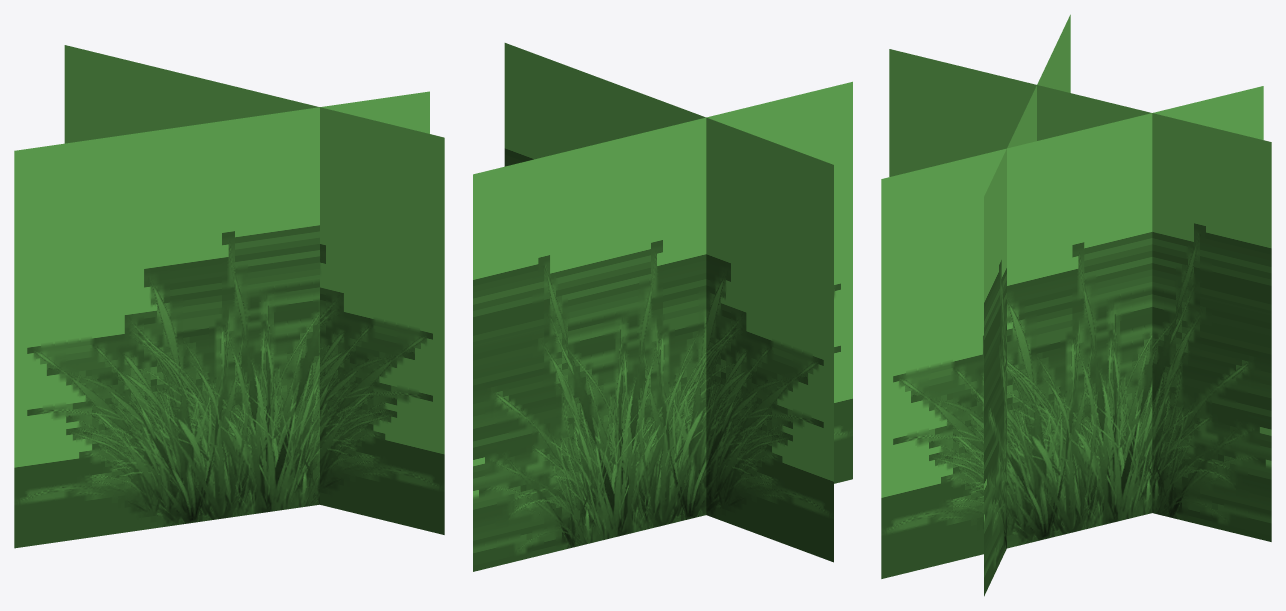
File: grass.glb
3 renders of one model, left to right at view 1: azimuth 30°, elevation 25°; view 2: azimuth 150°, elevation 25°; view 3: azimuth 270°, elevation 25°, orthographic.
Visible parts, largest first — view 1: Grass; view 2: Grass; view 3: Grass.
Boxes of the visible parts, x1,y1,x2,y2 form: Grass: (14, 45, 444, 548); Grass: (473, 43, 852, 571); Grass: (881, 14, 1271, 596).
Bounding box in the file's own units: 1.96 × 2 × 1.77.
1 material, 1 textured.
